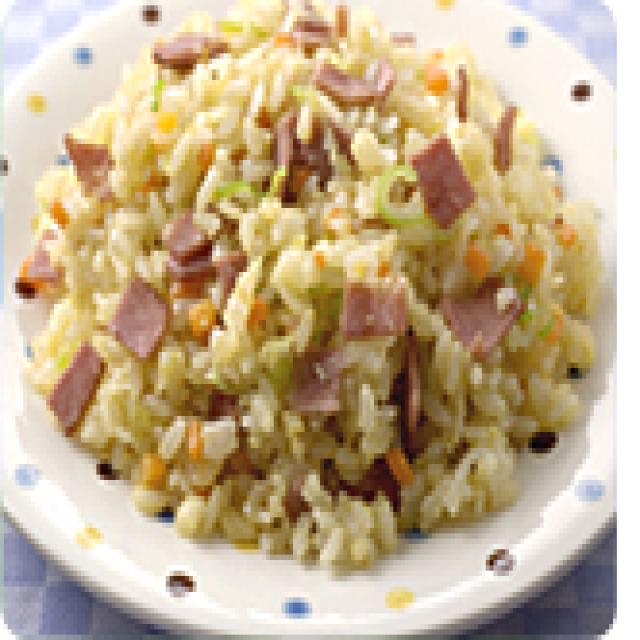米饭主食: (0, 0, 590, 592)
